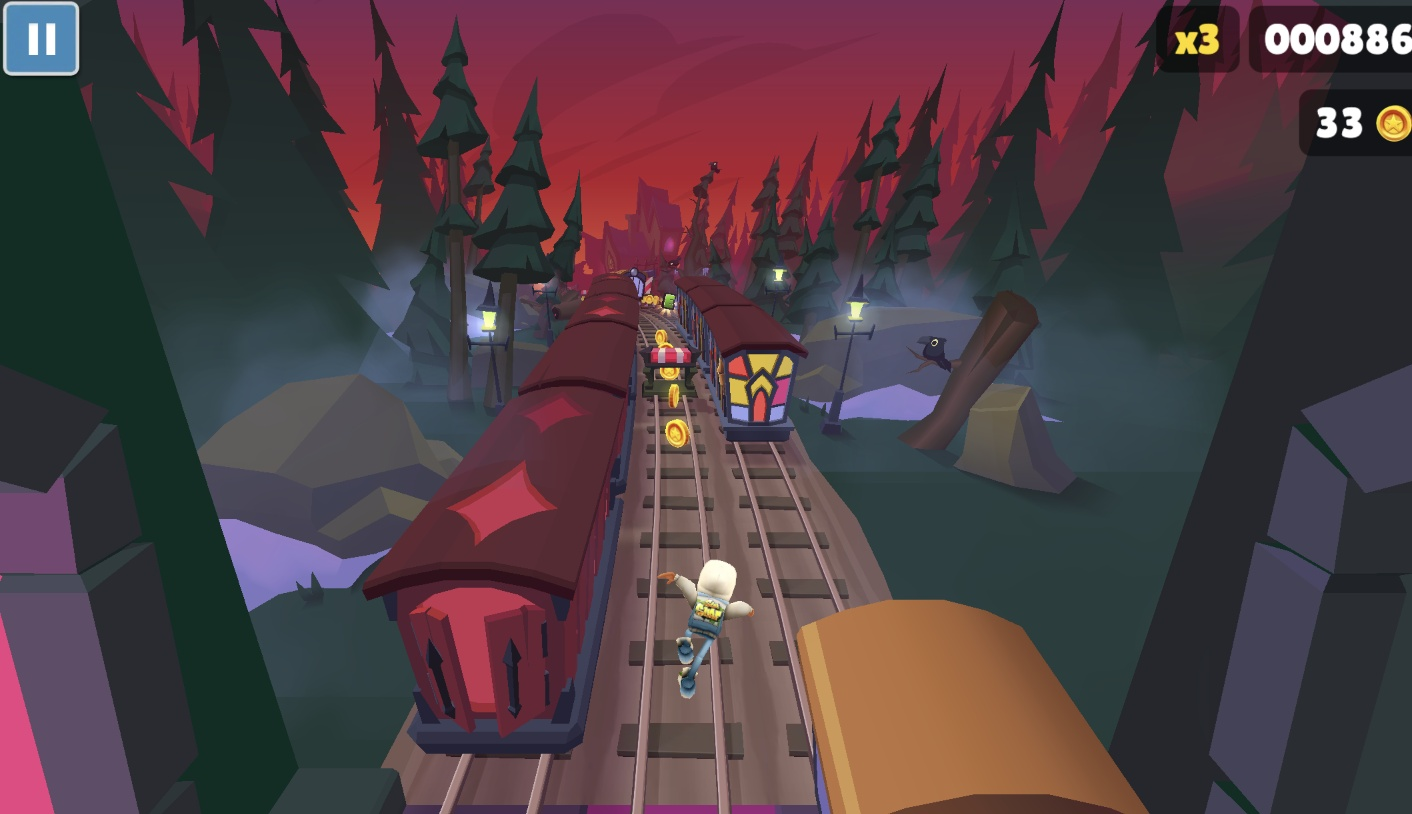ground_barrier: (638, 344, 694, 397)
overhead_barrier: (644, 270, 656, 296)
train: (338, 273, 636, 738), (778, 605, 1132, 814), (668, 274, 804, 440), (624, 267, 652, 301)
